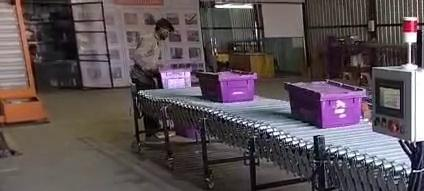box: (285, 81, 365, 127), (197, 71, 257, 102), (159, 68, 191, 88)
